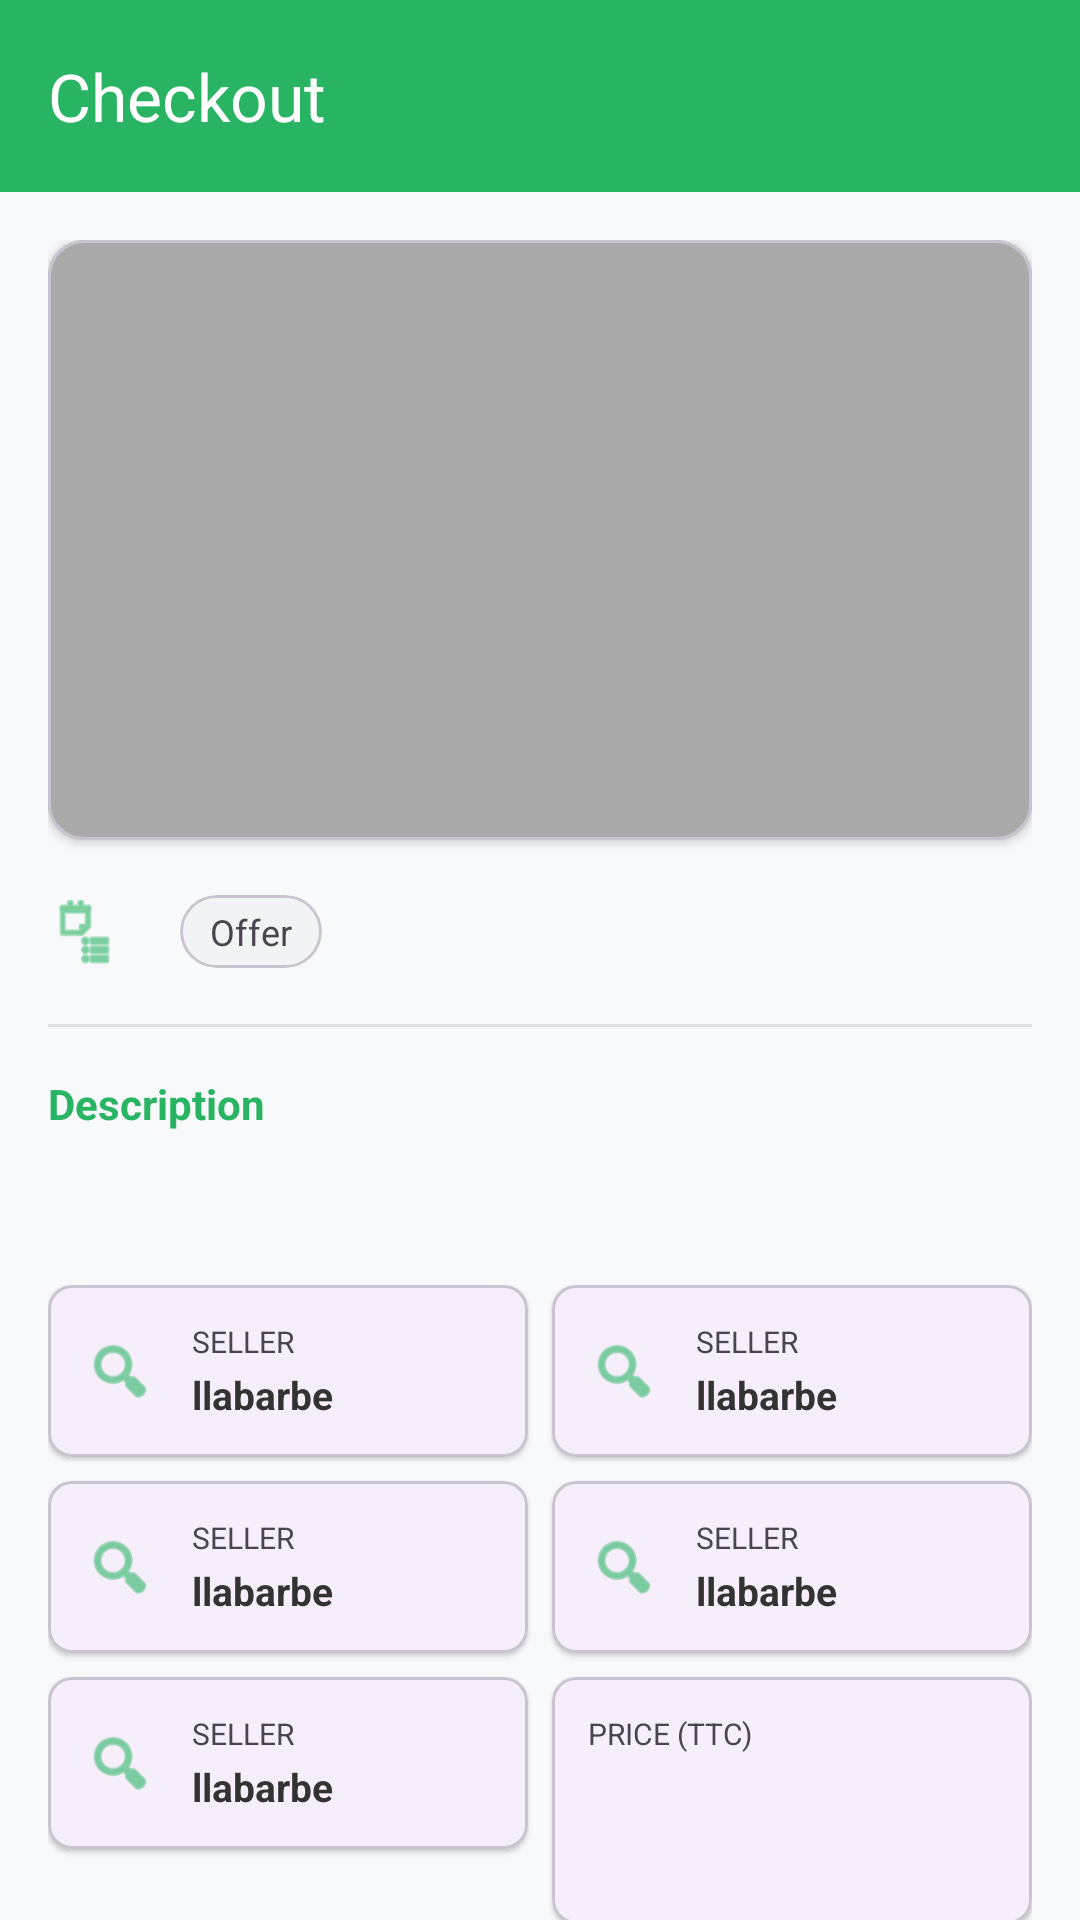

Locate icon controls on the screen. Image size 1080px×1920px, boxes as rect(x1, y1, x2, y2).
agenda: rect(59, 900, 110, 964)
search: rect(93, 1345, 147, 1398), rect(597, 1345, 651, 1398), rect(93, 1541, 147, 1594), rect(597, 1541, 651, 1594), rect(93, 1737, 147, 1790)
